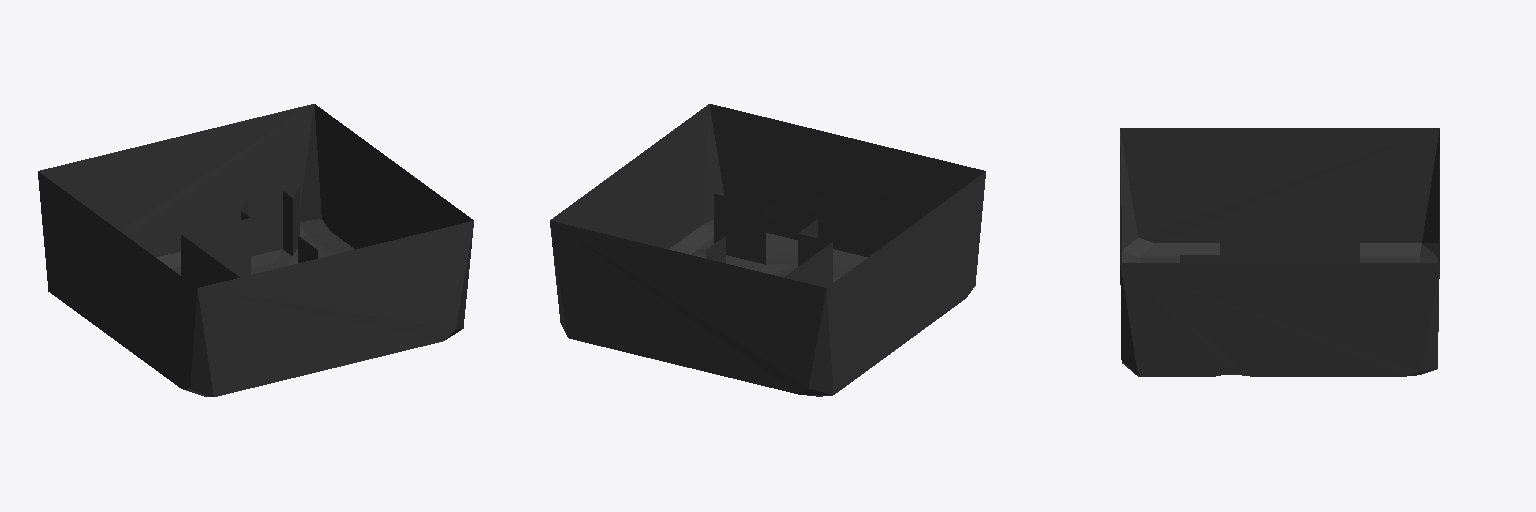
File: board3.obj
3 renders of one model, left to right at view 1: azimuth 30°, elevation 25°; view 2: azimuth 150°, elevation 25°; view 3: azimuth 270°, elevation 25°, orthographic.
Visible parts, largest first — view 1: Mesh_Mesh.001_Mesh_Mesh_Cu; view 2: Mesh_Mesh.001_Mesh_Mesh_Cu; view 3: Mesh_Mesh.001_Mesh_Mesh_Cu.
Part boxes in pixels (left/top/right/bottom): Mesh_Mesh.001_Mesh_Mesh_Cu: left=38, top=104, right=473, bottom=396; Mesh_Mesh.001_Mesh_Mesh_Cu: left=550, top=104, right=985, bottom=396; Mesh_Mesh.001_Mesh_Mesh_Cu: left=1120, top=128, right=1439, bottom=376.
Bounding box in the file's own units: 41.14 × 17.09 × 41.14.